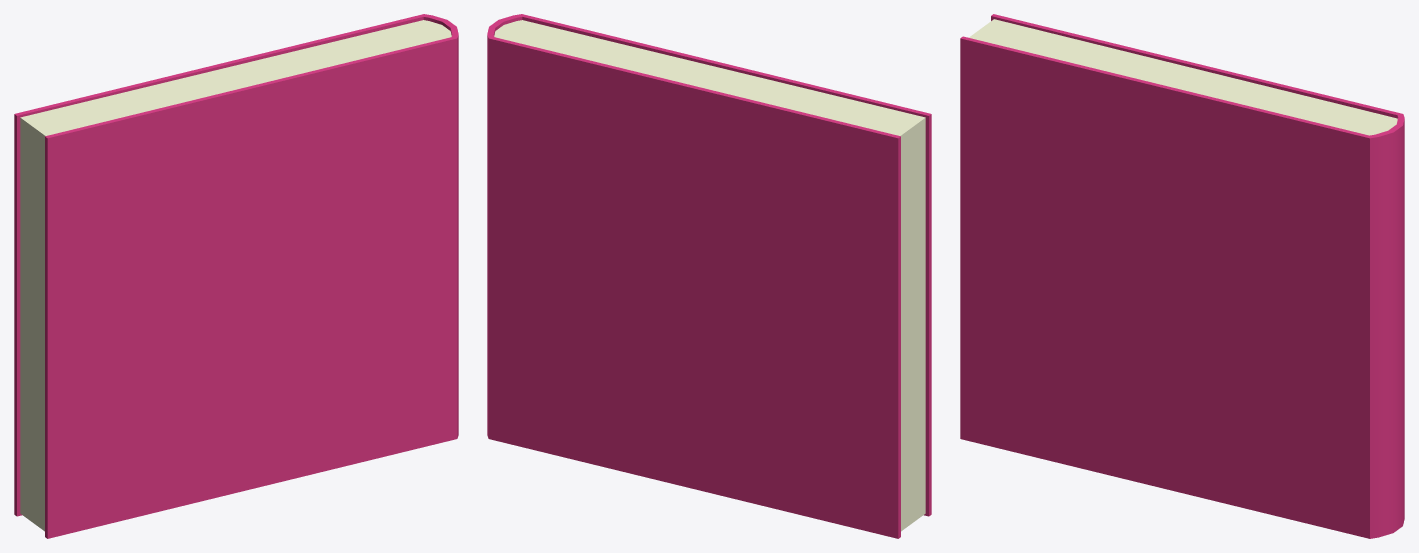
Rendered from newbook10.fbx.
The picture shows the model from 3 angles, left to right: view 1: azimuth 30°, elevation 25°; view 2: azimuth 150°, elevation 25°; view 3: azimuth 330°, elevation 25°; orthographic projection.
Visible parts, largest first — view 1: Book10; view 2: Book10; view 3: Book10.
Boxes of the visible parts, x1,y1,x2,y2 form: Book10: [14, 14, 458, 538]; Book10: [487, 14, 931, 538]; Book10: [960, 14, 1404, 538].
Bounding box in the file's own units: 15.84 × 14.39 × 2.17.
